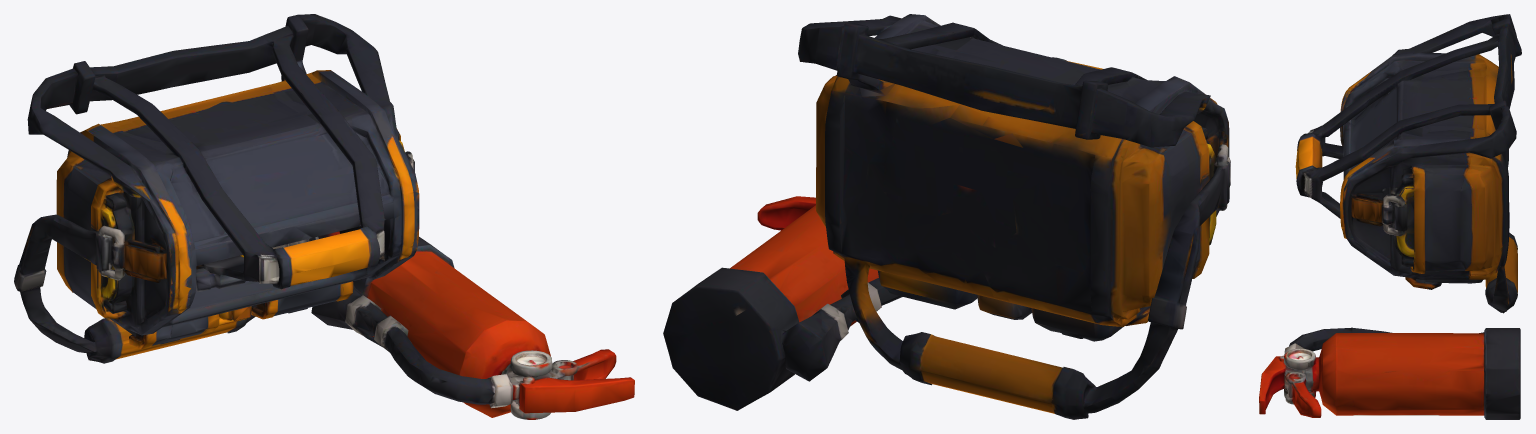
The model's file is sumka_ognetushitel.glb.
The picture shows the model from 3 angles, left to right: view 1: azimuth 30°, elevation 25°; view 2: azimuth 150°, elevation 25°; view 3: azimuth 270°, elevation 25°; orthographic projection. The views are drawn at different scales.
Visible parts, largest first — view 1: sumka_ognetushitel; view 2: sumka_ognetushitel; view 3: sumka_ognetushitel.
Boxes of the visible parts, <box> form: sumka_ognetushitel: <box>14,14,634,419</box>; sumka_ognetushitel: <box>663,14,1230,419</box>; sumka_ognetushitel: <box>1259,14,1521,419</box>.
Bounding box in the file's own units: 0.9093 × 0.638 × 0.55.
1 material, 1 textured.
